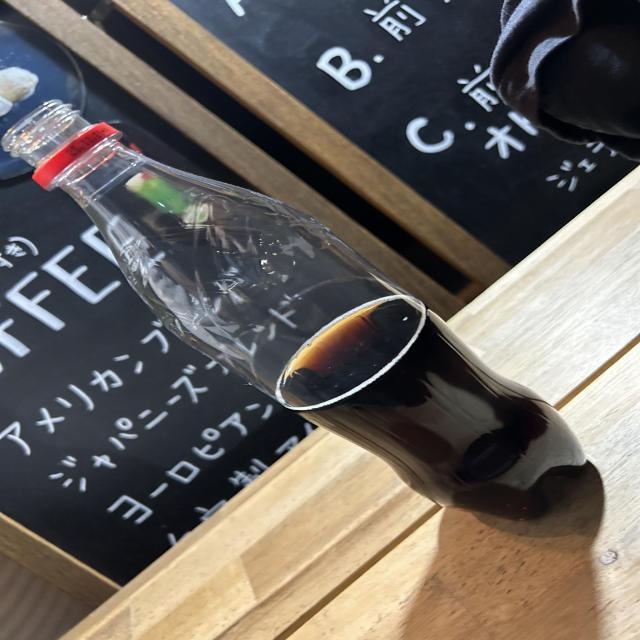medium: (2, 100, 586, 520)
